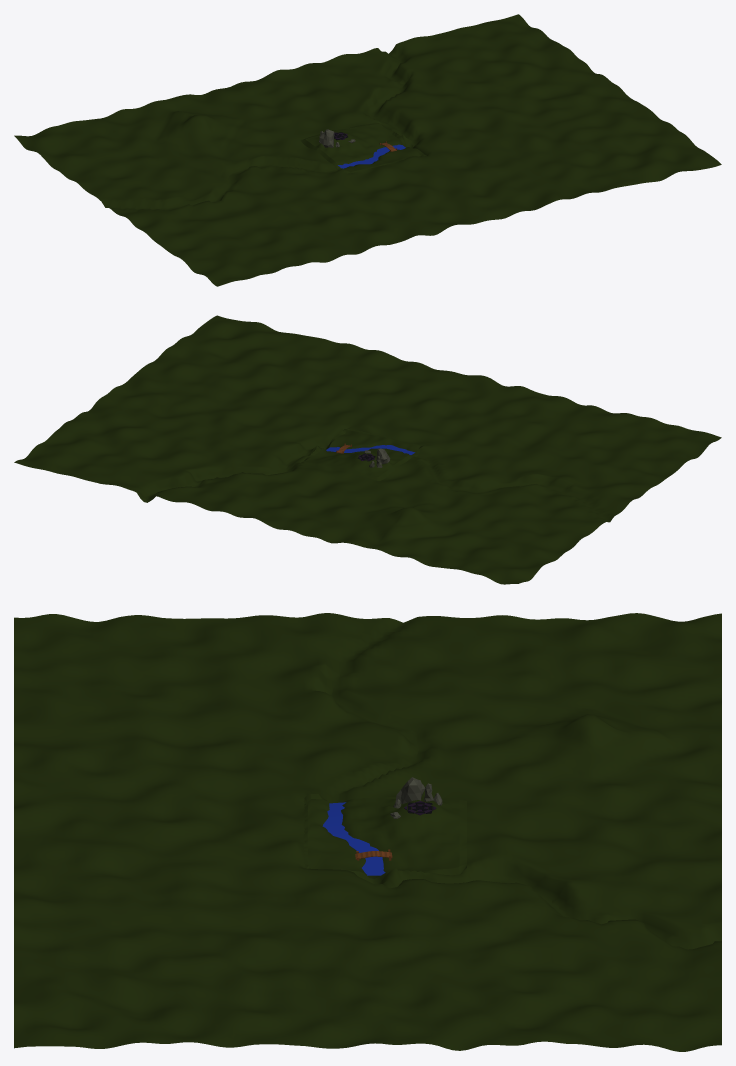
The model's file is testMap.FBX.
3 views of the same model, one above another, from view 1: azimuth 30°, elevation 25°; view 2: azimuth 150°, elevation 25°; view 3: azimuth 270°, elevation 25° (orthographic). The views are drawn at different scales.
Parts seen in each view (by area): view 1: Ground; view 2: Ground; view 3: Ground, River.
Boxes of the visible parts, left/top/right/bottom form: Ground: left=14, top=14, right=721, bottom=286; Ground: left=14, top=315, right=721, bottom=584; Ground: left=14, top=613, right=721, bottom=1051; River: left=322, top=802, right=385, bottom=875.
Size of the model in its own units: 9836 by 566 by 6862.
